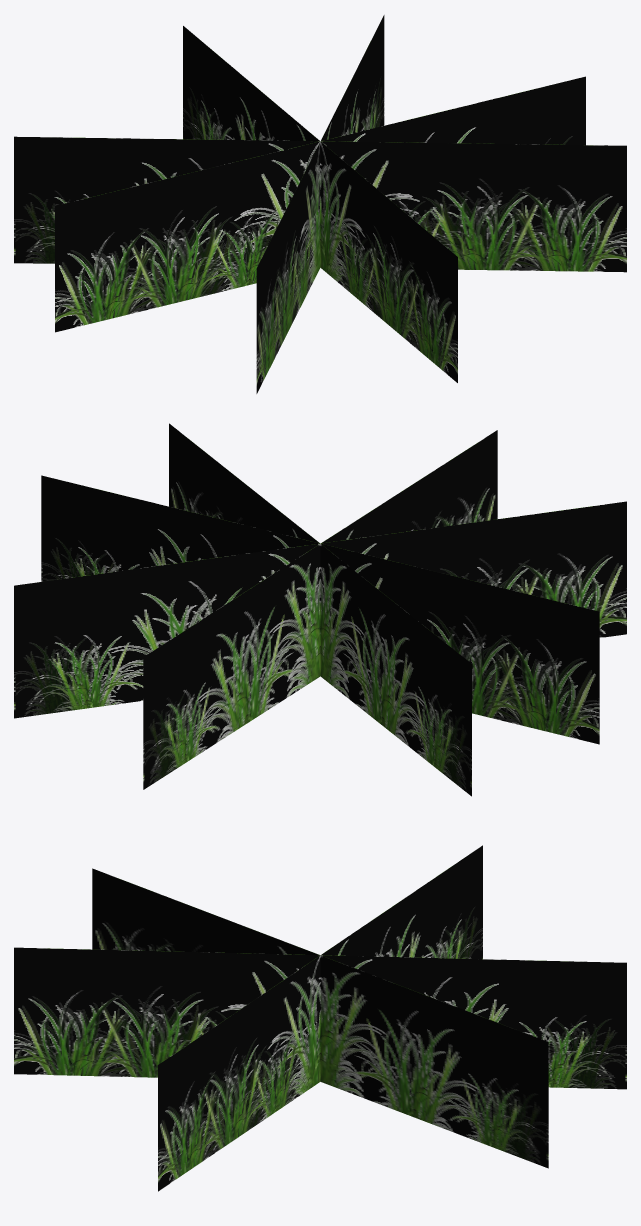
File: transpaGrass.glb
The picture shows the model from 3 angles, top to bottom: view 1: azimuth 30°, elevation 25°; view 2: azimuth 150°, elevation 25°; view 3: azimuth 270°, elevation 25°; orthographic projection. The views are drawn at different scales.
Visible parts, largest first — view 1: grassPlane; view 2: grassPlane; view 3: grassPlane.
Part boxes in pixels (x1,y1,x2,y2): grassPlane: (14,15,626,393); grassPlane: (14,423,626,796); grassPlane: (14,845,626,1191).
Size of the model in its own units: 2.8 by 0.6377 by 2.8.
Materials: 1 (1 with a texture image).
